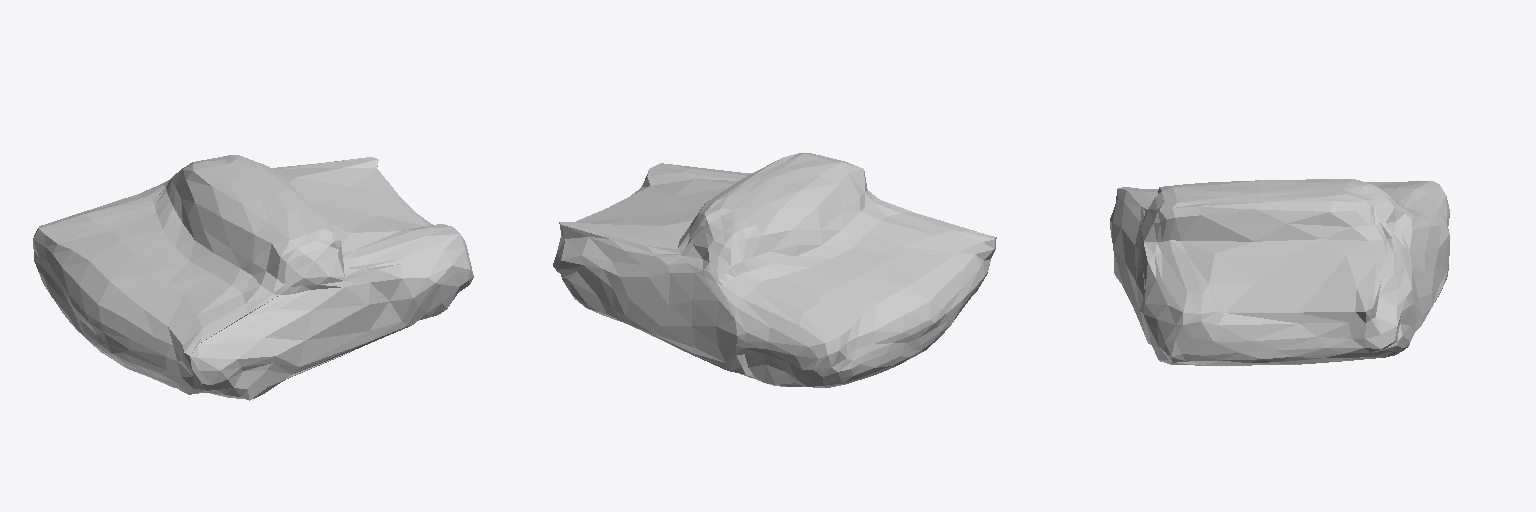
The model's file is video3_128.obj.
3 views of the same model, side by side, from view 1: azimuth 30°, elevation 25°; view 2: azimuth 150°, elevation 25°; view 3: azimuth 270°, elevation 25° (orthographic).
Size of the model in its own units: 1 by 0.3932 by 0.8815.